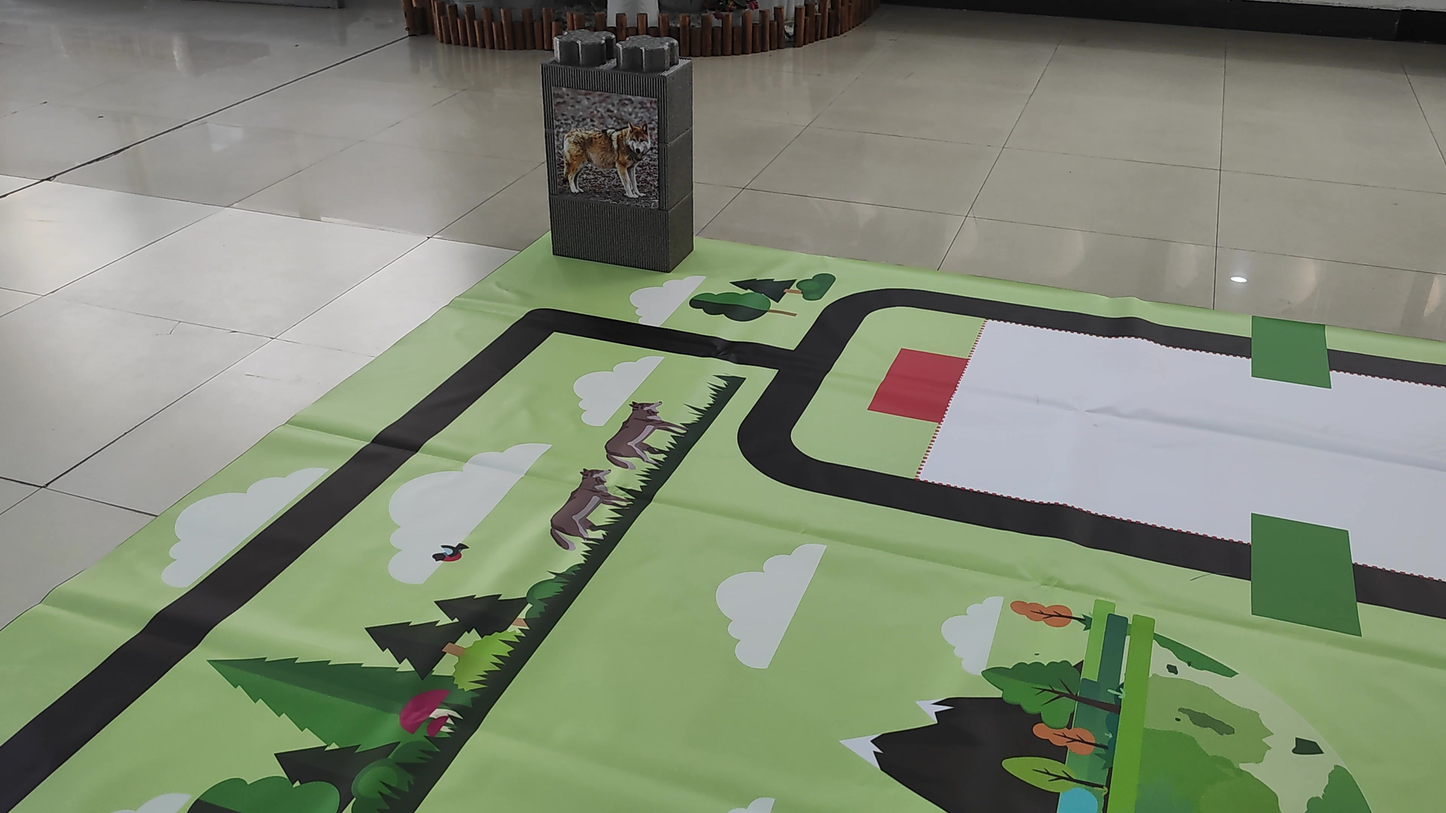wolf: (554, 99, 662, 216)
